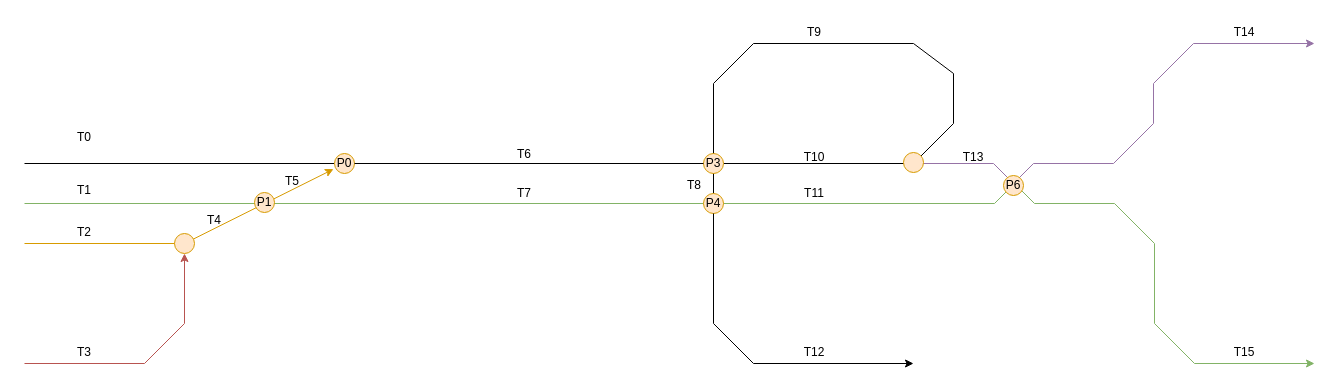
Some shapes in this 1340 by 389 pixel diagram are drawn without their labels. Here are the shapes that lost their labels. From the top down, the centre of each, then its label:
[913,162]: P5
[184,243]: P2
